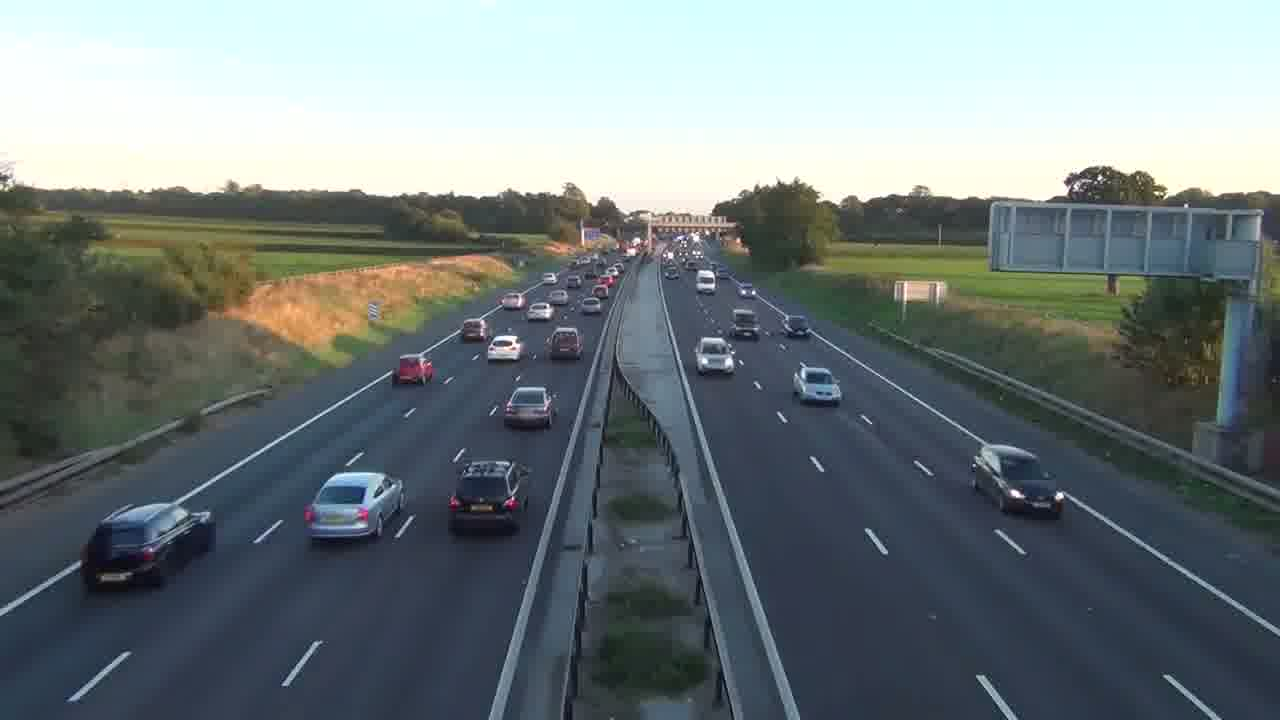car: (970, 442, 1067, 519), (303, 470, 405, 542), (447, 458, 532, 535), (503, 384, 559, 430), (793, 365, 842, 406), (694, 336, 738, 375), (544, 326, 583, 360), (486, 334, 522, 363)
truck: (79, 499, 217, 593), (394, 352, 435, 385)
